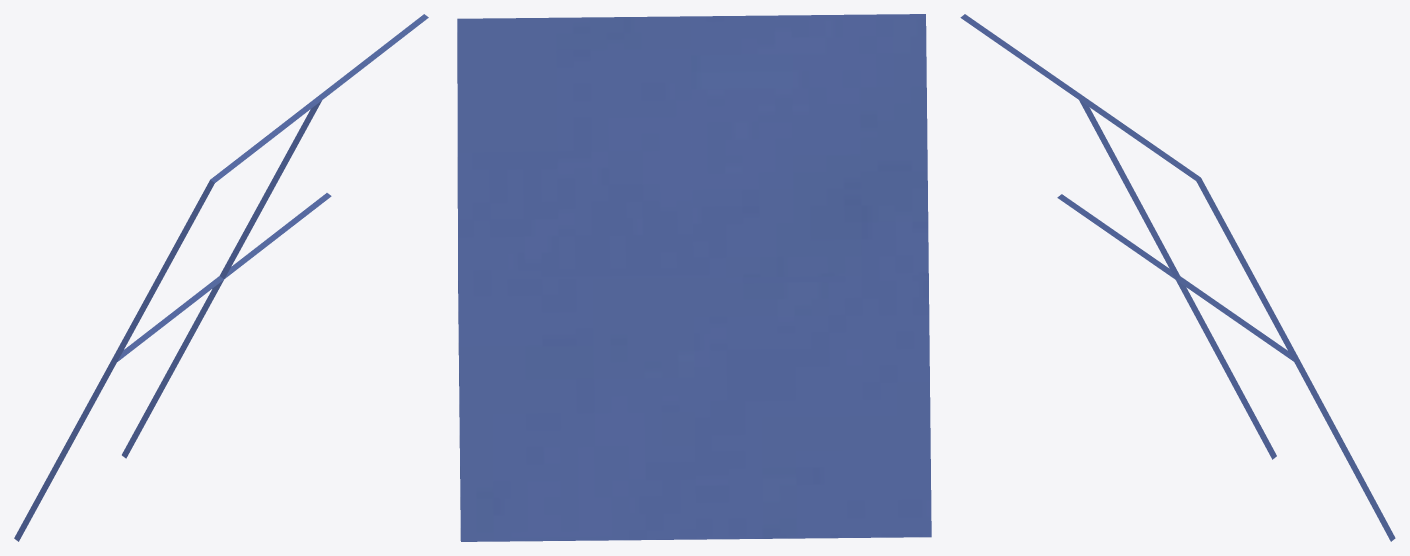
3 renders of one model, left to right at view 1: azimuth 30°, elevation 25°; view 2: azimuth 150°, elevation 25°; view 3: azimuth 270°, elevation 25°, orthographic. The views are drawn at different scales.
Size of the model in its own units: 19682 by 17635 by 16872.
Materials: 1 (1 with a texture image).
